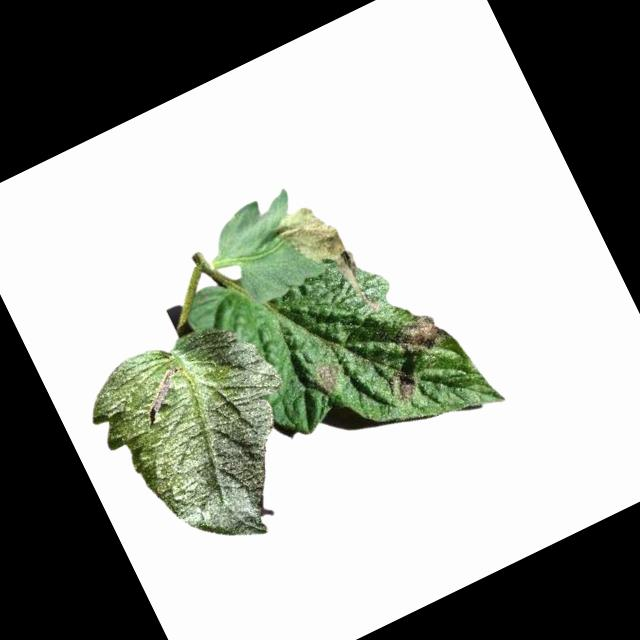Late_blight: (270, 197, 347, 277), (331, 248, 382, 318), (391, 309, 448, 361), (313, 359, 347, 397), (389, 370, 422, 407)
